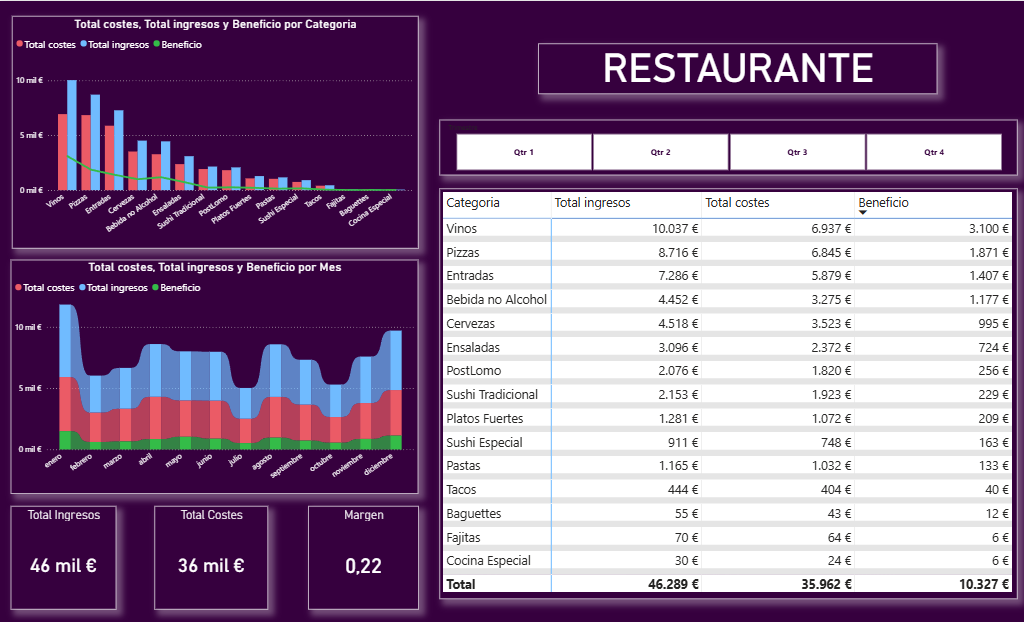

Layout of this report page (visuals, bound fields, positions):
{"tool":"powerbi","page":{"name":"Página 1","canvas":[1650,1000],"ordinal":0},"visuals":[{"type":"pivotTable","fields":{"Rows":["RegistroVentas.Categoria"],"Values":["Medidas.Total ingresos","Medidas.Total costes","Medidas.Beneficio"]},"box":[708.8,299.9,924.9,656.8],"z":0},{"type":"lineClusteredColumnComboChart","fields":{"Category":["RegistroVentas.Categoria"],"Y":["Medidas.Total costes","Medidas.Total ingresos"],"Y2":["Medidas.Beneficio"]},"box":[24,24,650,372],"z":1000},{"type":"ribbonChart","fields":{"Category":["Calendario.Date.Variación.Jerarquía de fechas.Mes"],"Y":["Medidas.Total costes","Medidas.Total ingresos","Medidas.Beneficio"]},"box":[22,414,652,374],"z":2000},{"type":"slicer","fields":{"Values":["Calendario.Date.Variación.Jerarquía de fechas.Trimestre"]},"box":[708.8,189.3,924.9,88.8],"z":3000},{"type":"textbox","title":"RESTAURANTE","box":[866.3,68.7,638.4,80.4],"z":4000},{"type":"cardVisual","title":"Total Ingresos","fields":{"Data":["Medidas.Total ingresos"]},"box":[21.4,808.6,168.6,165.7],"z":5000},{"type":"cardVisual","title":"Total Costes","fields":{"Data":["Medidas.Total costes"]},"box":[251.4,808.6,181.4,165.7],"z":6000},{"type":"cardVisual","title":"Margen","fields":{"Data":["Medidas.Margen %"]},"box":[497.1,808.6,177.1,165.7],"z":7000}]}

Visuals, with their boxes in screenshot pixels (x1, y1, x2, y2), scaled from the page's 1650x1000 canvas onto the 1024x622 screenshot:
pivotTable - RegistroVentas.Categoria x Medidas.Total ingresos: region(440, 187, 1014, 595)
lineClusteredColumnComboChart - RegistroVentas.Categoria x Medidas.Total costes: region(15, 15, 418, 246)
ribbonChart - Calendario.Date.Variación.Jerarquía de fechas.Mes x Medidas.Total costes: region(14, 258, 418, 490)
slicer - Calendario.Date.Variación.Jerarquía de fechas.Trimestre: region(440, 118, 1014, 173)
"RESTAURANTE" textbox: region(538, 43, 934, 93)
"Total Ingresos" cardVisual: region(13, 503, 118, 606)
"Total Costes" cardVisual: region(156, 503, 269, 606)
"Margen" cardVisual: region(309, 503, 418, 606)
